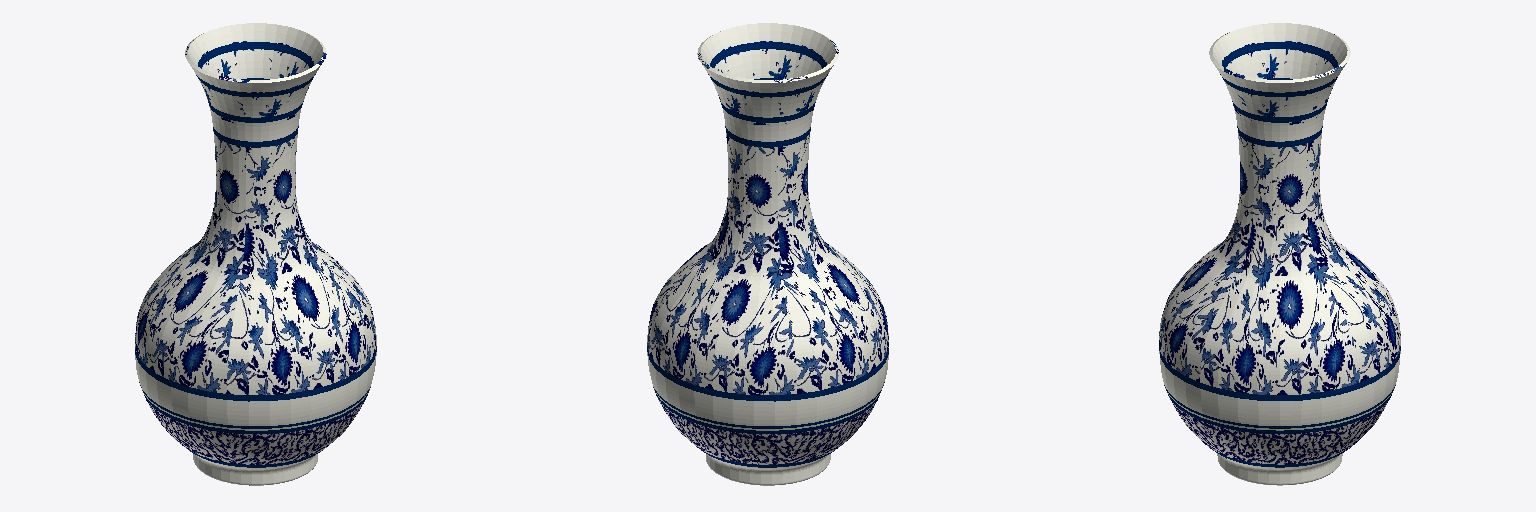
3 renders of one model, left to right at view 1: azimuth 30°, elevation 25°; view 2: azimuth 150°, elevation 25°; view 3: azimuth 270°, elevation 25°, orthographic.
Parts seen in each view (by area): view 1: model_1; view 2: model_1; view 3: model_1.
Boxes of the visible parts, box(x1,y1,x2,y2) form: model_1: box(135, 23, 376, 485); model_1: box(647, 23, 888, 485); model_1: box(1159, 23, 1400, 485).
Bounding box in the file's own units: 120 × 224 × 120.
1 materials, 1 textured.